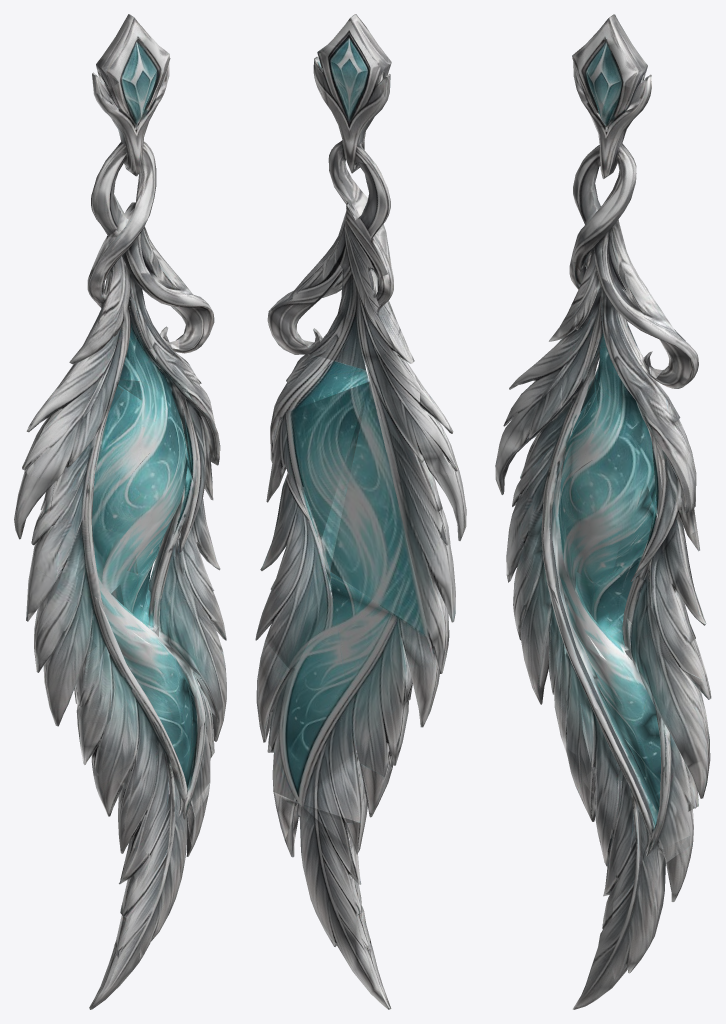
The model's file is set-wind-amulet.glb.
The picture shows the model from 3 angles, left to right: view 1: azimuth 30°, elevation 25°; view 2: azimuth 150°, elevation 25°; view 3: azimuth 330°, elevation 25°; orthographic projection. The views are drawn at different scales.
Parts seen in each view (by area): view 1: Motion_Control; view 2: Motion_Control; view 3: Motion_Control.
Boxes of the visible parts, x1,y1,x2,y2 form: Motion_Control: (14,14,226,1009); Motion_Control: (255,14,466,1009); Motion_Control: (495,14,711,1009).
Size of the model in its own units: 0.447 by 2 by 0.0919.
1 material, 1 textured.
